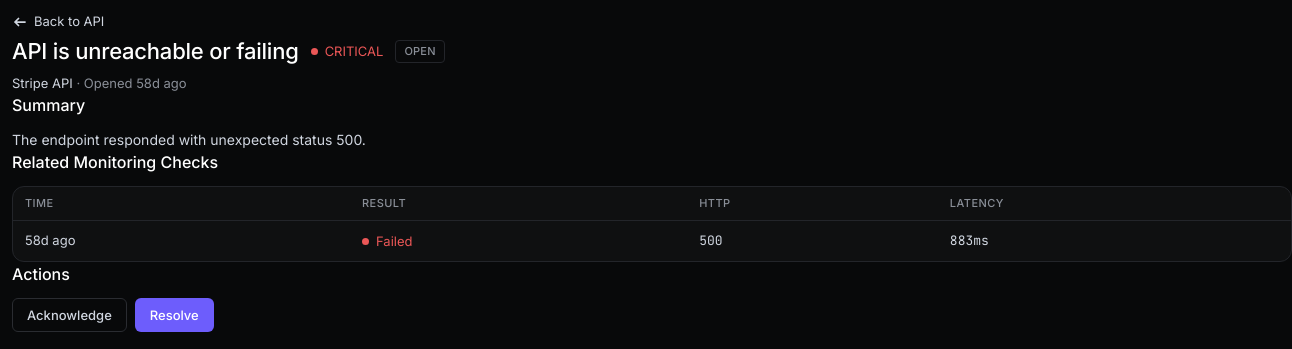
Test: IncidentDetailPage › acknowledges an open incident
The image size is (1292, 349).
Click the button "Acknowledge" at (69,315), box top-left (12, 298), bottom-right (127, 332)
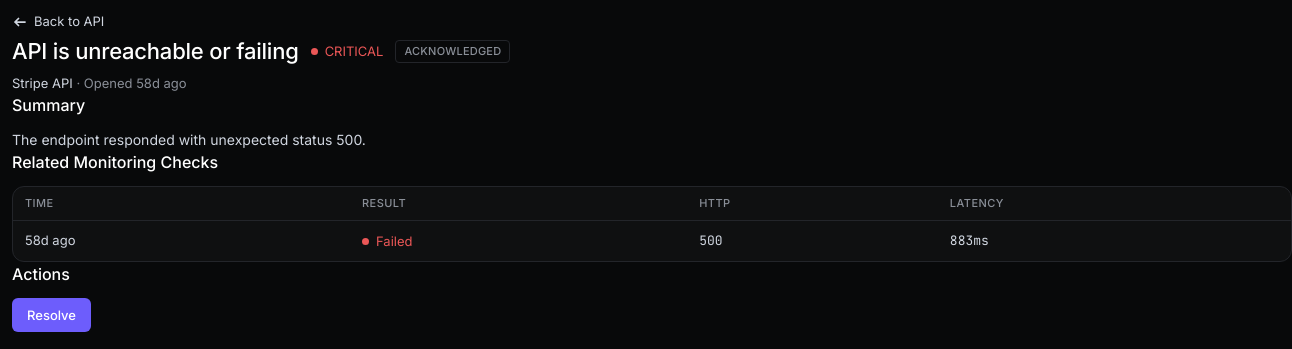
Expected: the text "ACKNOWLEDGED" is shown, top-left (395, 40), bottom-right (510, 62)
